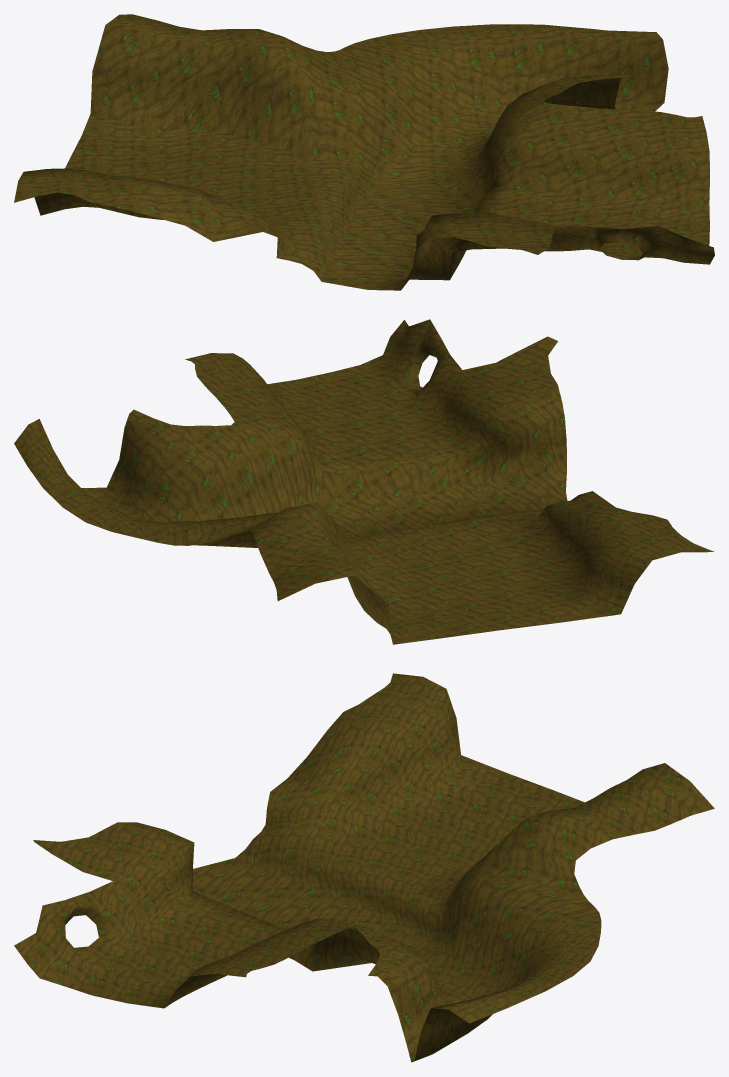
The model's file is MIRKWOOD_AREA2-3.fbx.
3 renders of one model, top to bottom at view 1: azimuth 30°, elevation 25°; view 2: azimuth 150°, elevation 25°; view 3: azimuth 270°, elevation 25°, orthographic.
Visible parts, largest first — view 1: MIRKWOOD_AREA2-3; view 2: MIRKWOOD_AREA2-3; view 3: MIRKWOOD_AREA2-3.
Part boxes in pixels (box(x1,y1,x2,y2)): MIRKWOOD_AREA2-3: box(14, 14, 714, 290); MIRKWOOD_AREA2-3: box(14, 319, 713, 644); MIRKWOOD_AREA2-3: box(14, 673, 714, 1062).
Size of the model in its own units: 696446 by 107011 by 635261.
1 material, 1 textured.
